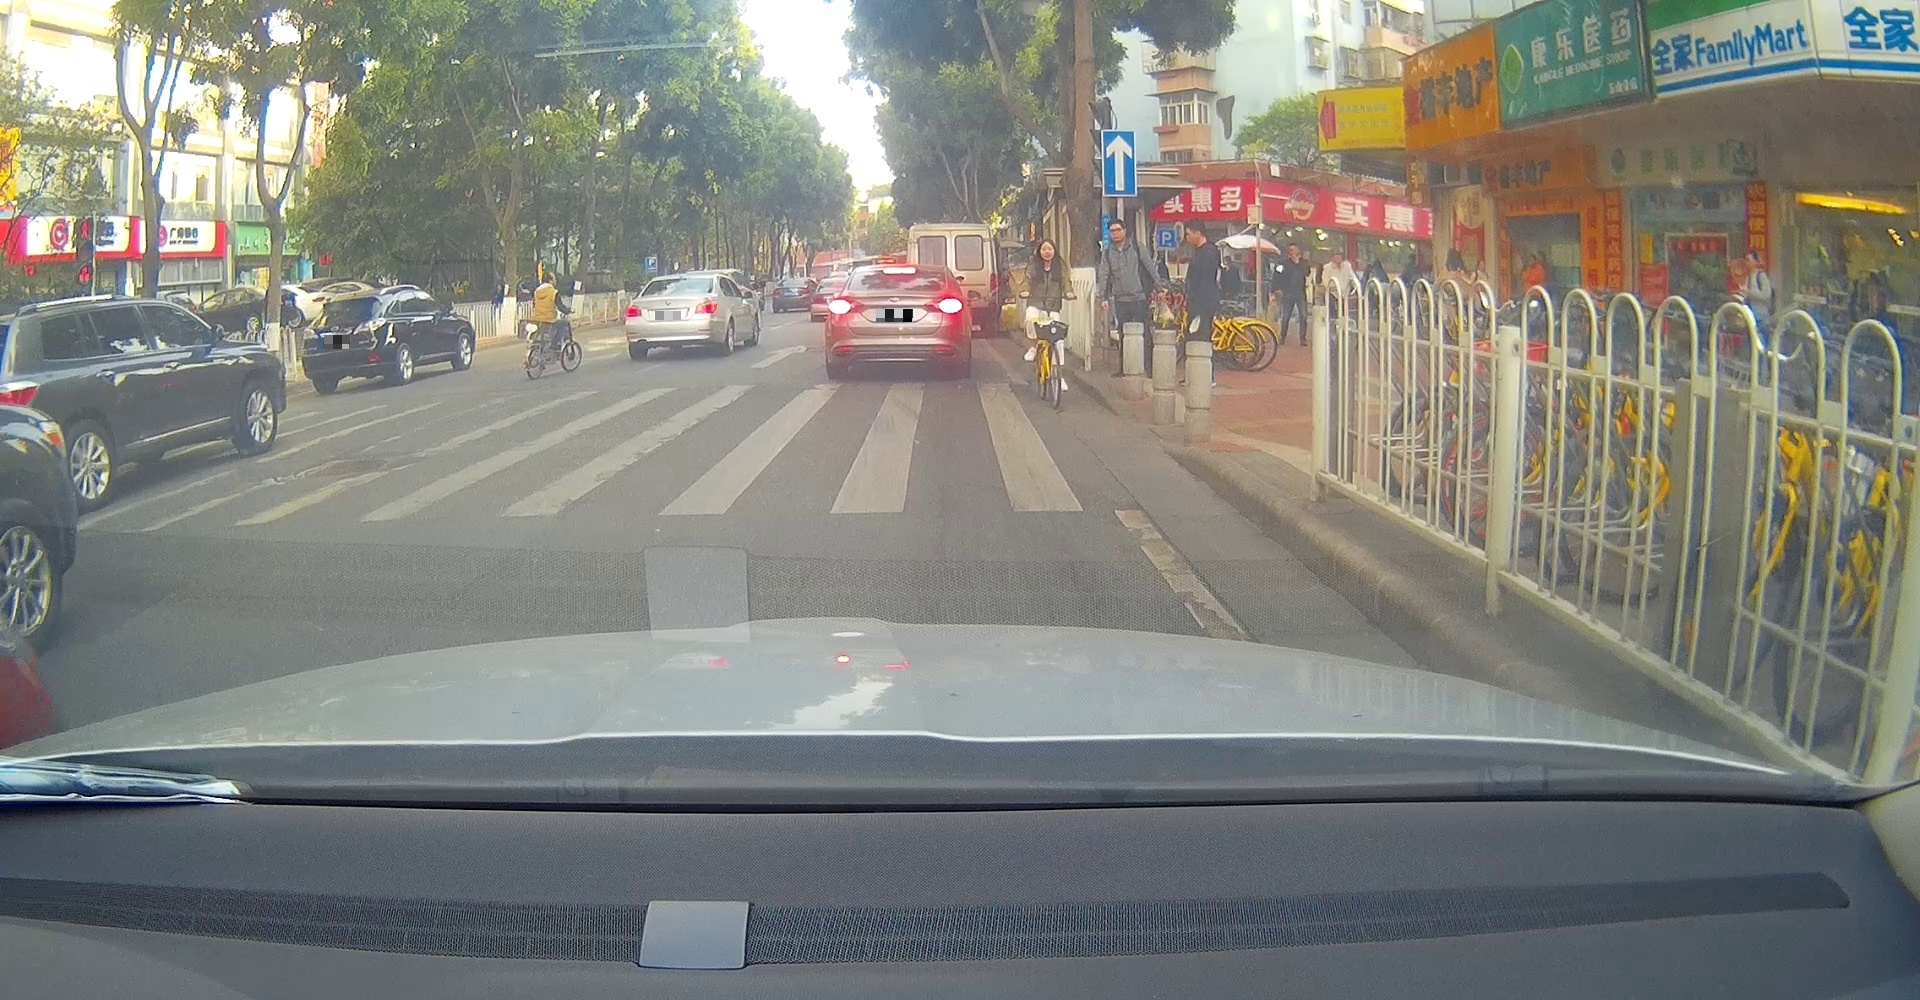L_light: (827, 296, 863, 315), (625, 305, 643, 319), (303, 327, 319, 340), (775, 288, 783, 294)
R_light: (928, 294, 963, 315), (695, 299, 719, 315), (363, 317, 386, 331), (797, 287, 808, 294)
T_light: (883, 266, 917, 275), (676, 278, 690, 283), (344, 301, 356, 305), (791, 279, 797, 282)
day-brake: (825, 263, 965, 378)
day-no: (301, 291, 397, 393), (625, 272, 723, 360), (772, 277, 811, 313)
plate_1: (324, 335, 349, 349)
plate_2: (655, 311, 681, 320)
plate_3: (876, 308, 913, 322)
